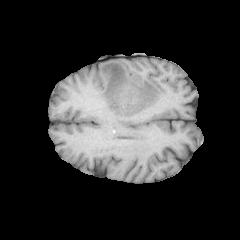glioma: (99, 60, 161, 117)
